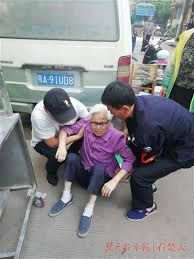fall: (41, 97, 136, 239)
